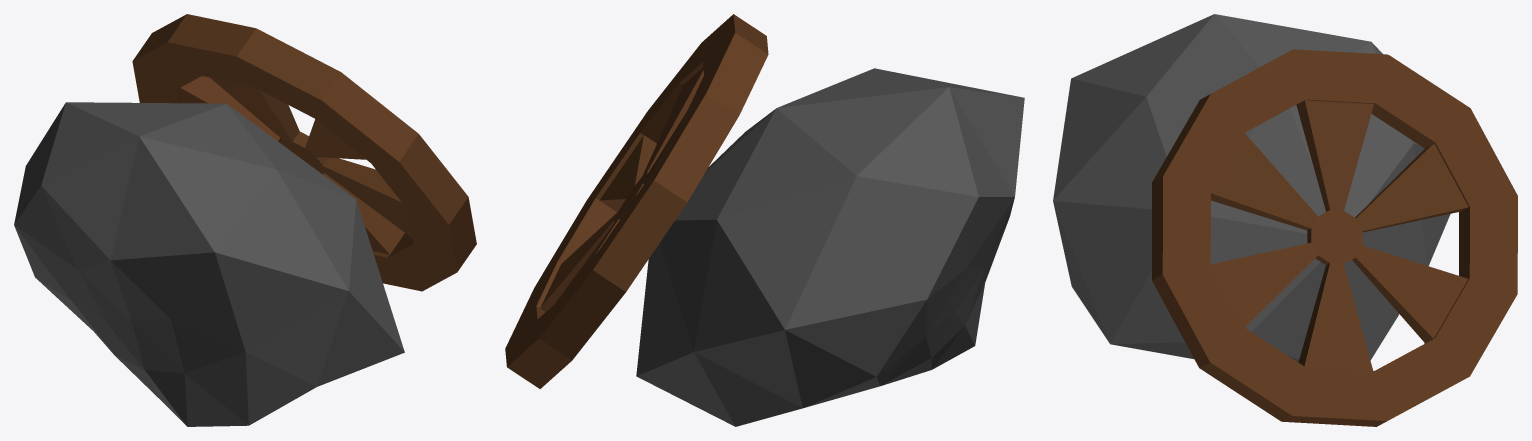
File: wagon_wheel.fbx
The picture shows the model from 3 angles, left to right: view 1: azimuth 30°, elevation 25°; view 2: azimuth 150°, elevation 25°; view 3: azimuth 270°, elevation 25°; orthographic projection. The views are drawn at different scales.
Visible parts, largest first — view 1: Icosphere, Cylinder; view 2: Icosphere, Cylinder; view 3: Cylinder, Icosphere.
Part boxes in pixels (x1,y1,x2,y2): Icosphere: [14, 102, 404, 426]; Cylinder: [132, 14, 476, 291]; Icosphere: [636, 68, 1024, 426]; Cylinder: [505, 14, 768, 388]; Cylinder: [1152, 49, 1517, 426]; Icosphere: [1053, 14, 1450, 362].
Size of the model in its own units: 240 by 181 by 242.
